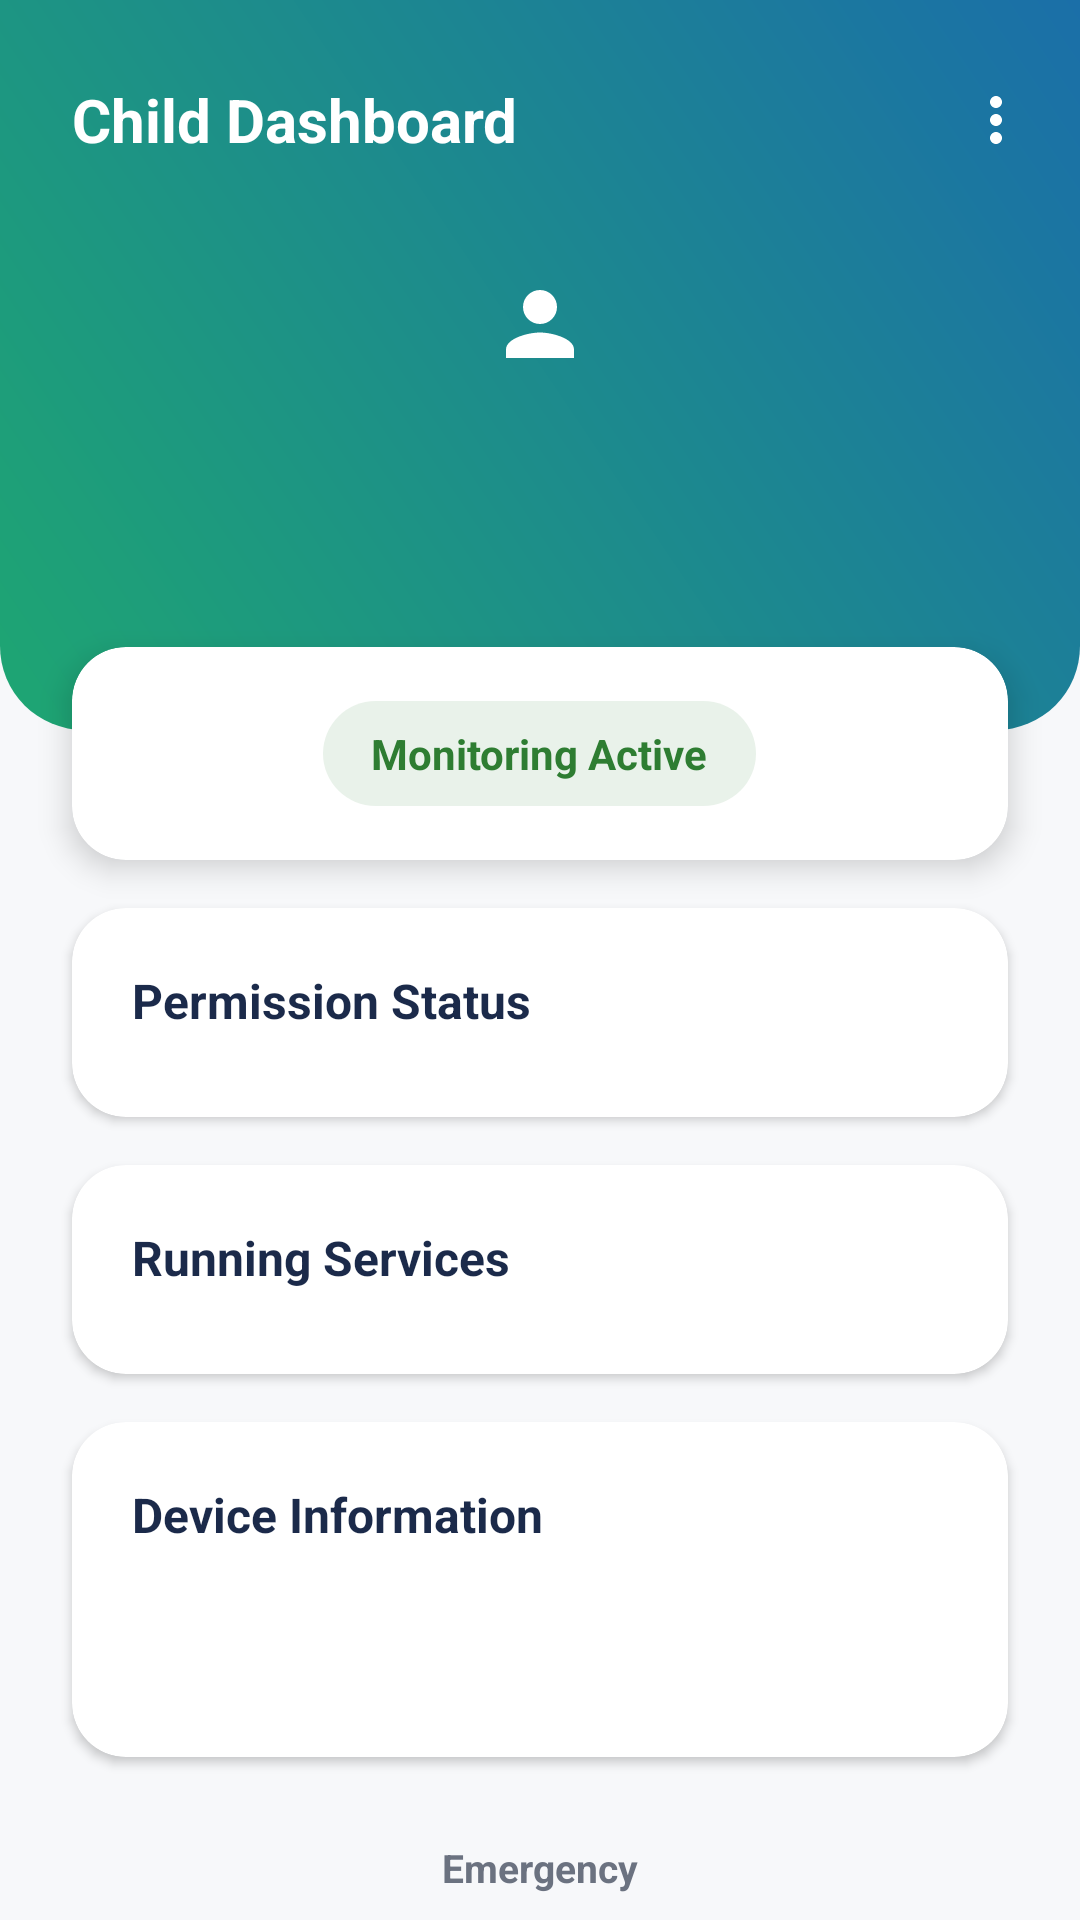

Locate icon controls on the screen. Image size 1080 × 1920, boxes as (x1, y1, x2, y2).
person child: (506, 290, 574, 358)
